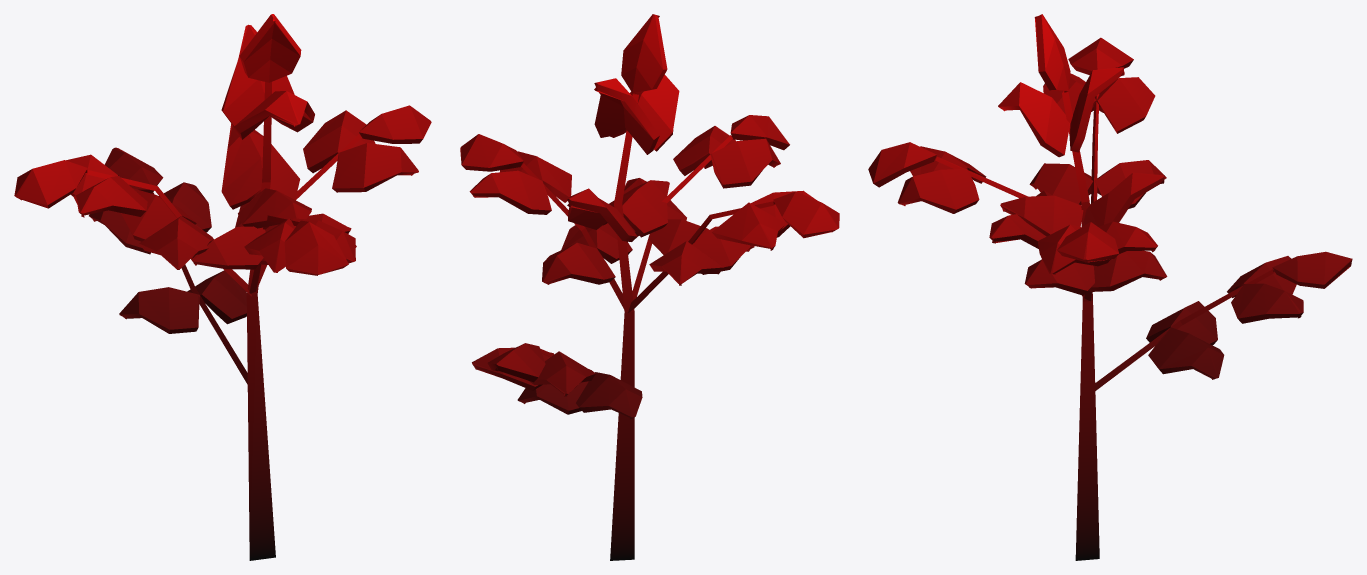
Rendered from TreeWalnutSmall02.fbx.
3 renders of one model, left to right at view 1: azimuth 30°, elevation 25°; view 2: azimuth 150°, elevation 25°; view 3: azimuth 270°, elevation 25°, orthographic. The views are drawn at different scales.
Visible parts, largest first — view 1: TreeWalnutSmall02_LOD0; view 2: TreeWalnutSmall02_LOD0; view 3: TreeWalnutSmall02_LOD0.
Boxes of the visible parts, left/top/right/bottom form: TreeWalnutSmall02_LOD0: left=14, top=14, right=431, bottom=560; TreeWalnutSmall02_LOD0: left=460, top=14, right=839, bottom=560; TreeWalnutSmall02_LOD0: left=868, top=14, right=1352, bottom=560.
Size of what is drawn, in the model's own units: 103 by 135 by 110.
